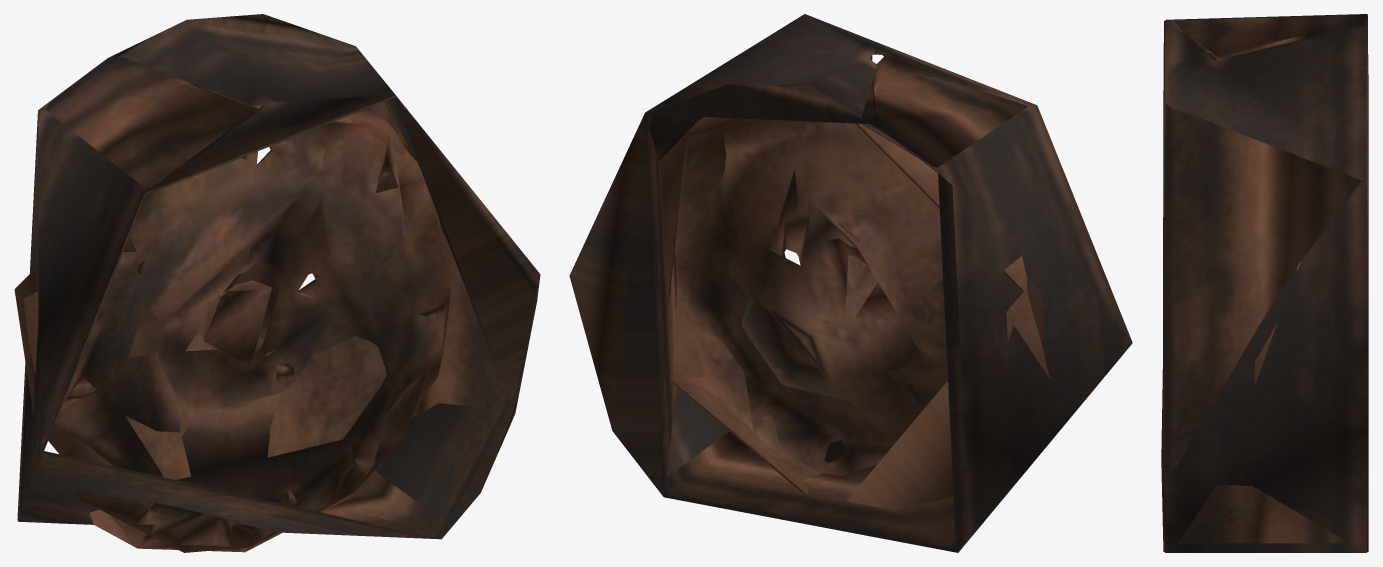
Rendered from rusted_wheel_rim_01.glb.
3 renders of one model, left to right at view 1: azimuth 30°, elevation 25°; view 2: azimuth 150°, elevation 25°; view 3: azimuth 270°, elevation 25°, orthographic. The views are drawn at different scales.
Visible parts, largest first — view 1: rusted_wheel_rim_01; view 2: rusted_wheel_rim_01; view 3: rusted_wheel_rim_01.
Part boxes in pixels (x1,y1,x2,y2): rusted_wheel_rim_01: (14,14,540,552); rusted_wheel_rim_01: (569,14,1132,552); rusted_wheel_rim_01: (1161,14,1368,552).
Bounding box in the file's own units: 0.4005 × 0.3753 × 0.1516.
1 material, 1 textured.
